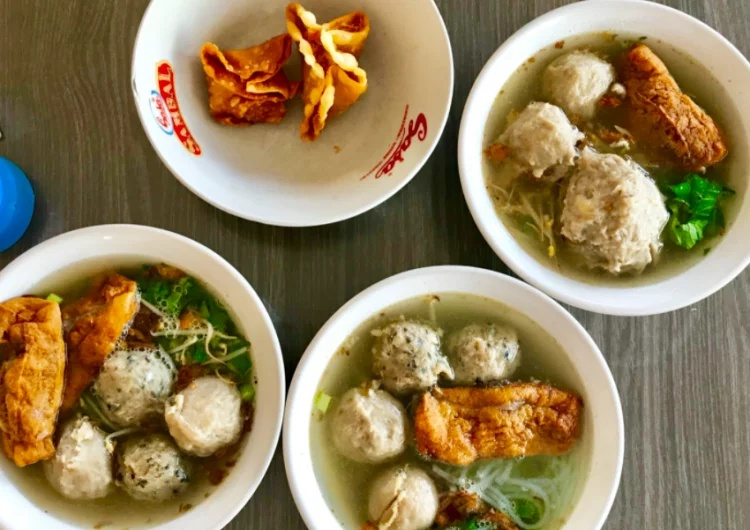bakso_malang: (1, 258, 258, 530), (310, 294, 595, 530), (483, 31, 741, 288)
